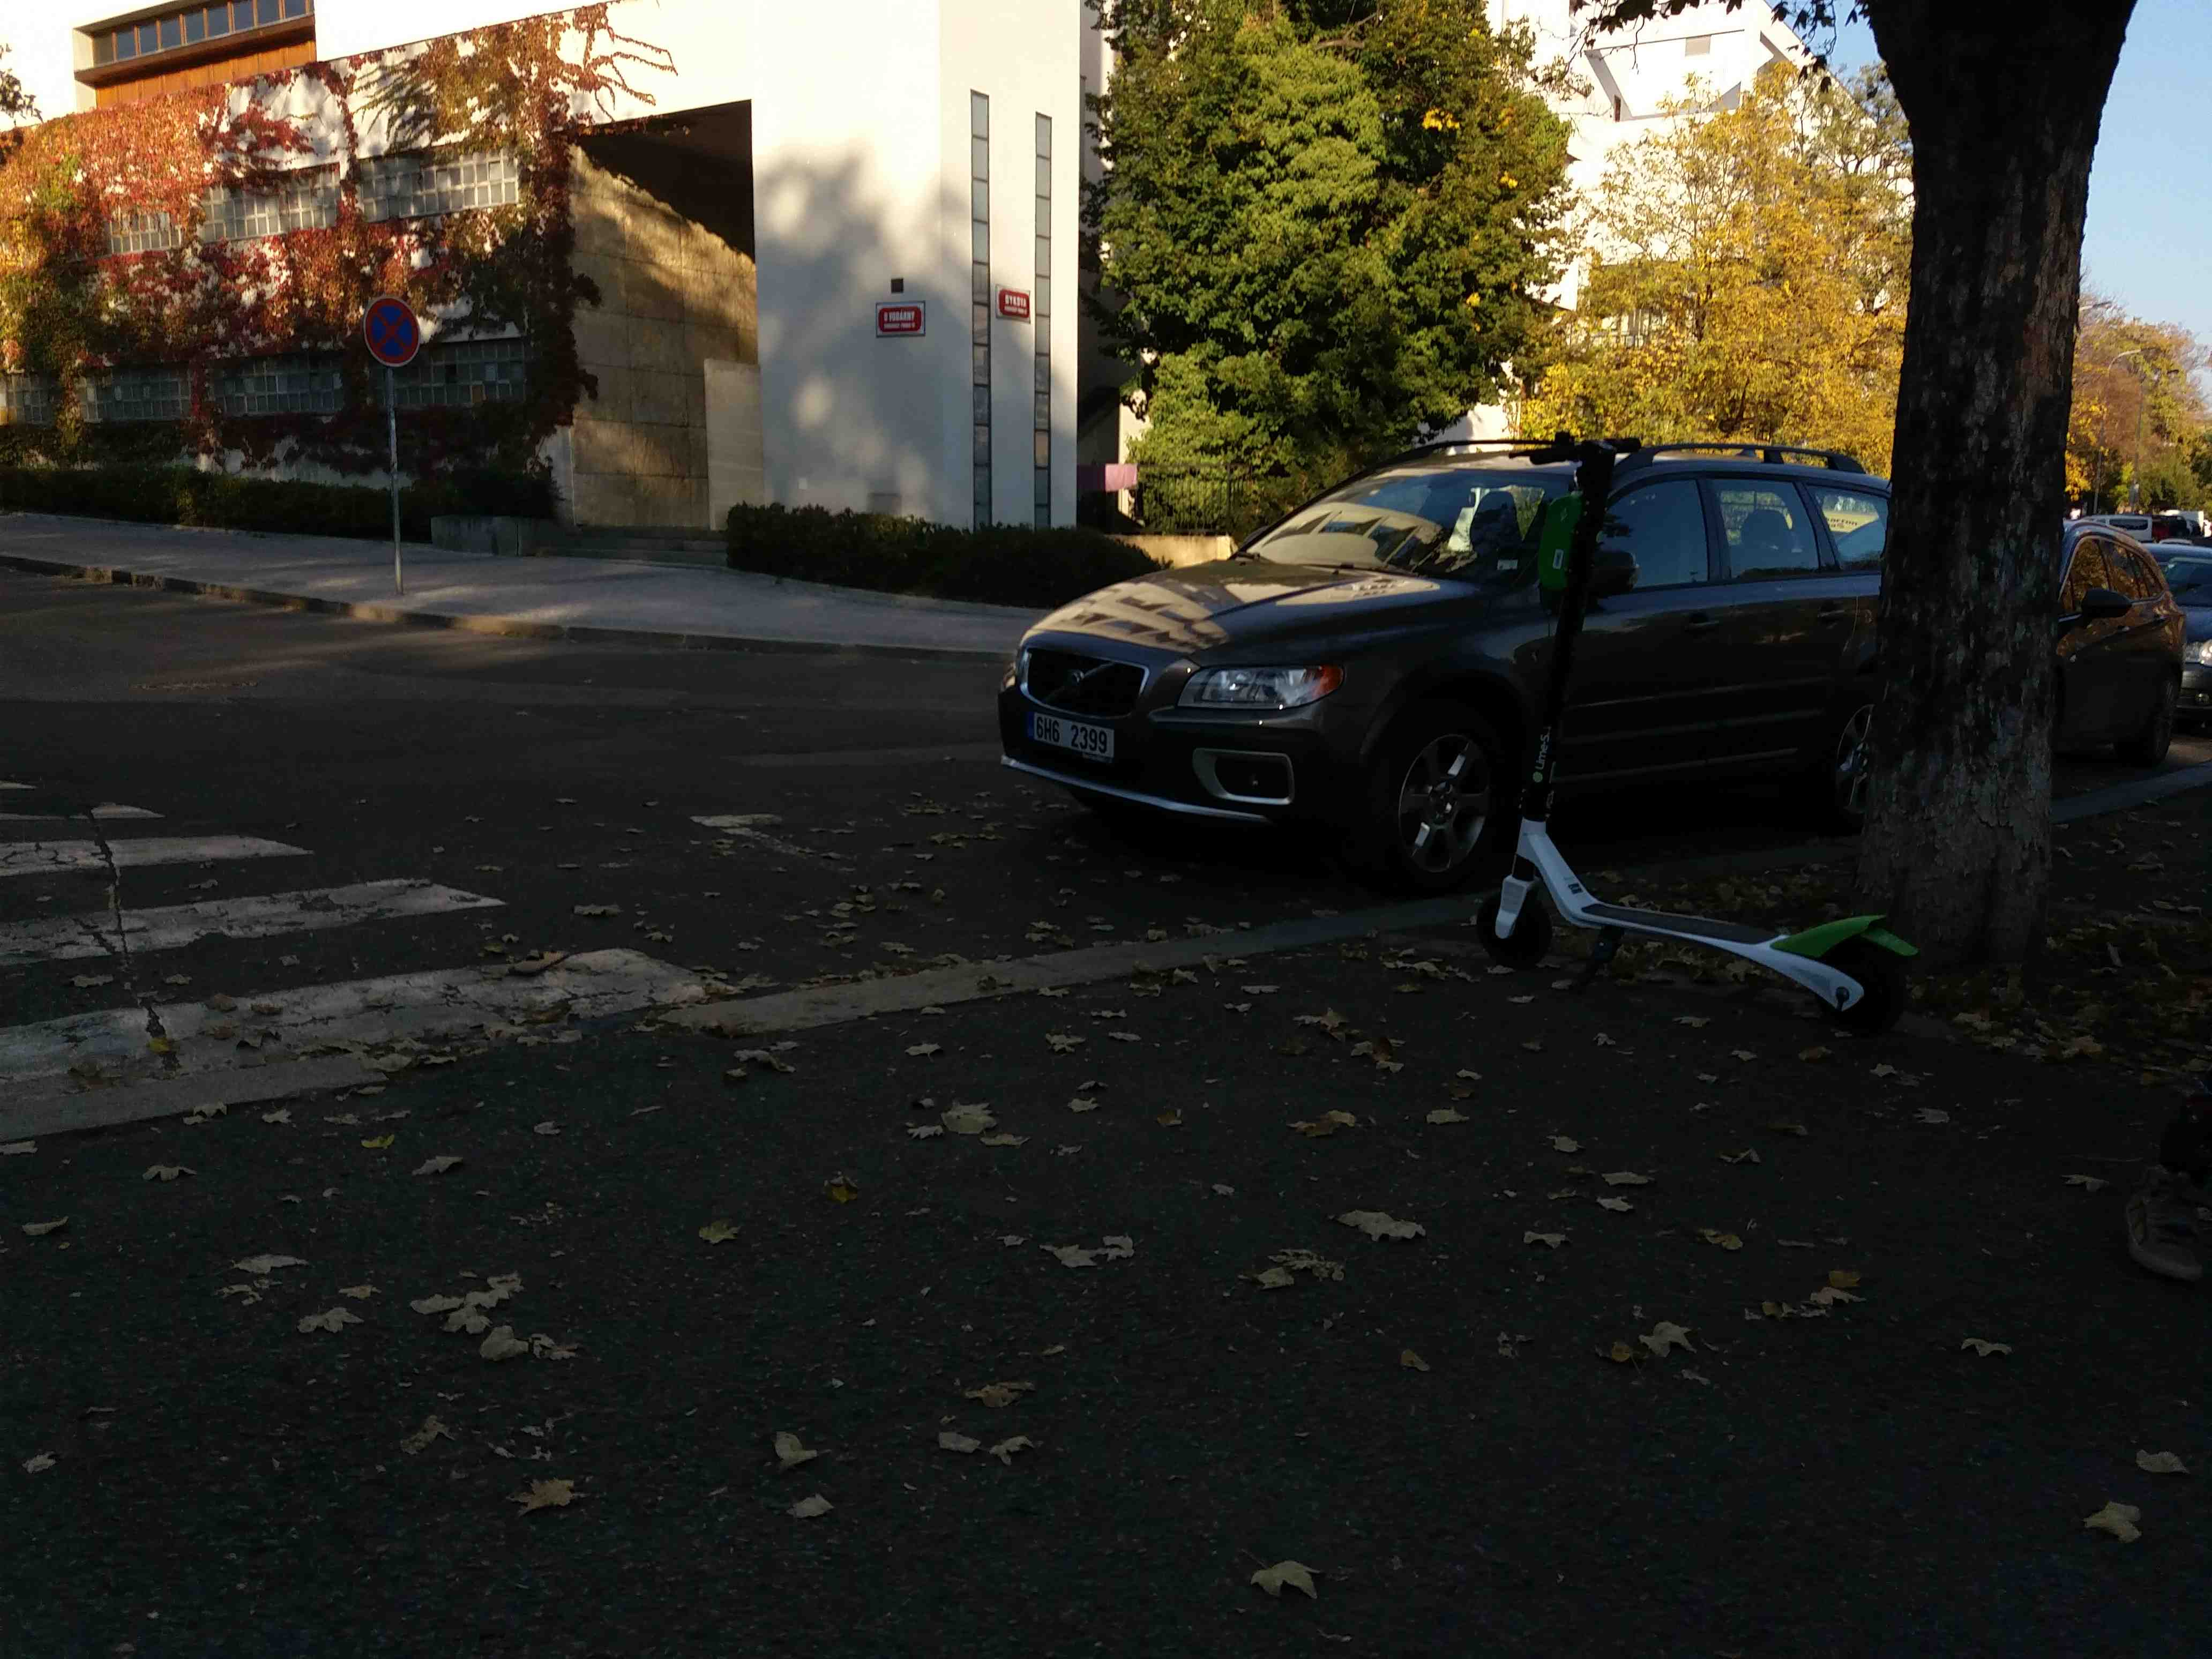scooter: (1500, 446, 1890, 1086)
